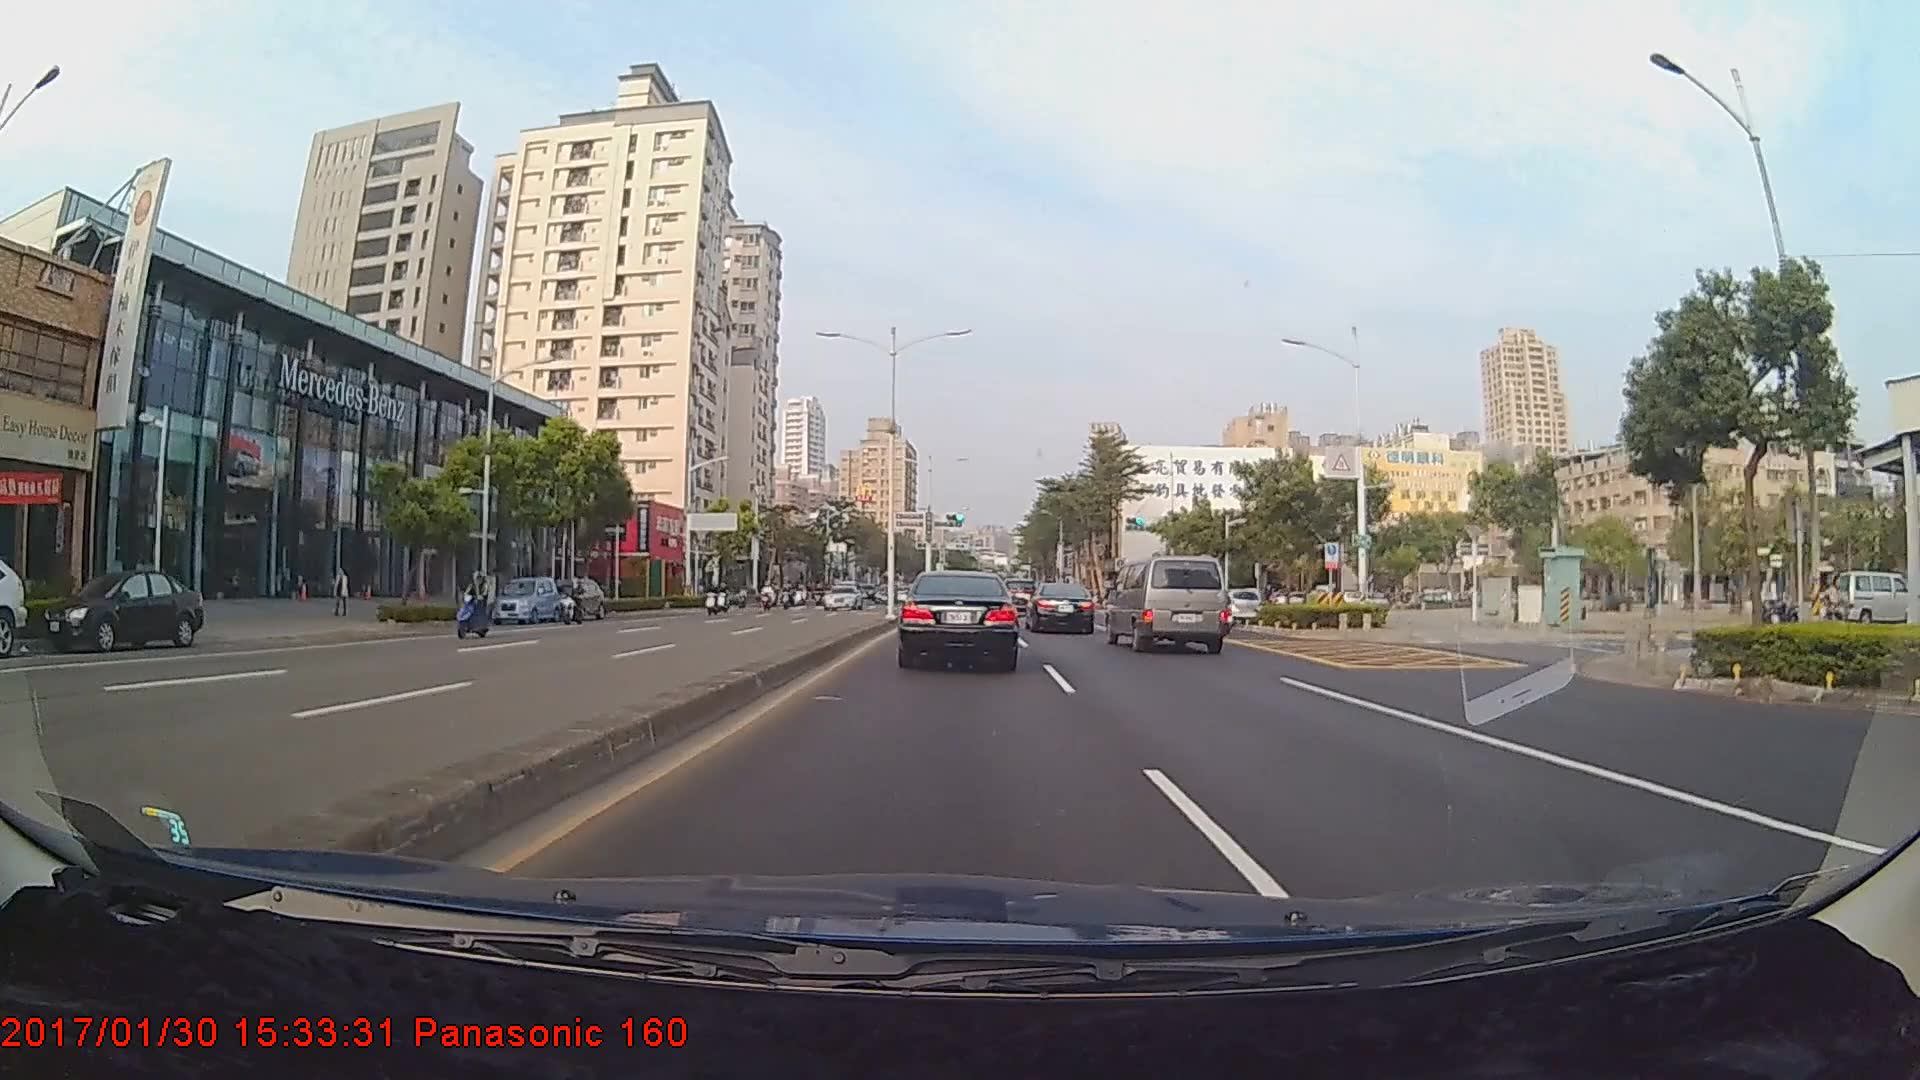pedestrian: (331, 566, 352, 623)
rider: (454, 563, 499, 645), (561, 581, 594, 629)
vehicle: (41, 567, 202, 652), (896, 568, 1019, 671), (1108, 555, 1227, 654), (1026, 582, 1095, 635), (491, 577, 559, 625), (545, 577, 601, 624), (1209, 587, 1264, 621), (820, 582, 860, 610)
